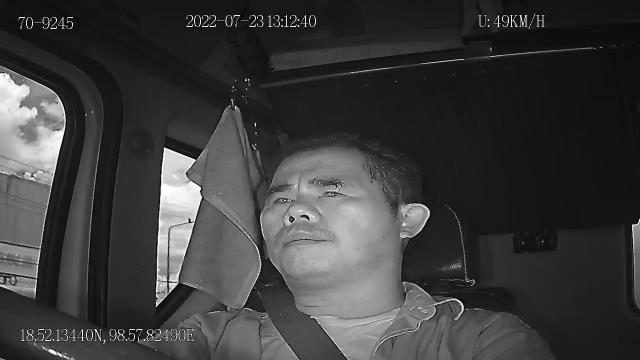SafeDriving: (312, 178, 352, 202), (266, 188, 298, 210)
Seatbelt: (253, 283, 351, 360)
